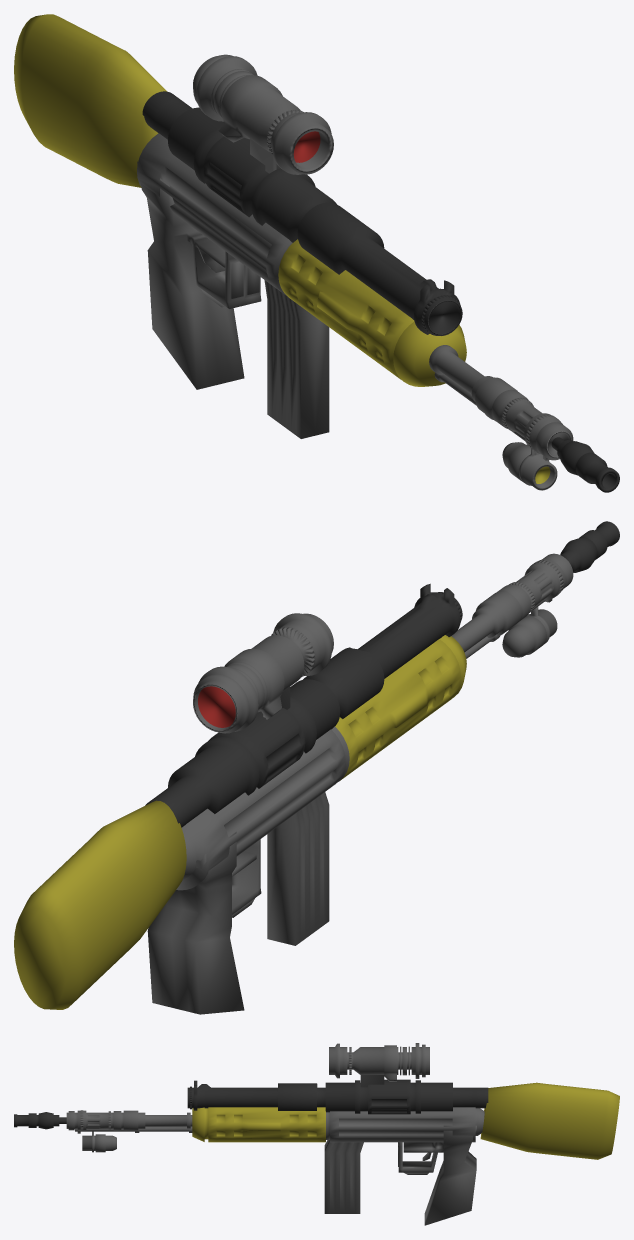
The model's file is HKG3_Aksesoris_Lengkap.fbx.
3 renders of one model, top to bottom at view 1: azimuth 30°, elevation 25°; view 2: azimuth 150°, elevation 25°; view 3: azimuth 270°, elevation 25°, orthographic. The views are drawn at different scales.
Visible parts, largest first — view 1: Objek HKG 4, Objek HKG 2, Objek HKG 6, Objek HKG 7, Objek HKG 10, Objek HKG 5, Objek HKG 1, Objek HKG 8, Objek HKG 9; view 2: Objek HKG 6, Objek HKG 4, Objek HKG 2, Objek HKG 7, Objek HKG 10, Objek HKG 5, Objek HKG 1, Objek HKG 9, Objek HKG 8; view 3: Objek HKG 2, Objek HKG 6, Objek HKG 4, Objek HKG 7, Objek HKG 10, Objek HKG 5, Objek HKG 1, Objek HKG 8, Objek HKG 9, Objek HKG 3.
Boxes of the visible parts, x1,y1,x2,y2 form: Objek HKG 4: [142, 91, 462, 335]; Objek HKG 2: [137, 133, 466, 386]; Objek HKG 6: [14, 14, 166, 187]; Objek HKG 7: [137, 161, 261, 389]; Objek HKG 10: [193, 54, 333, 174]; Objek HKG 5: [264, 280, 329, 438]; Objek HKG 1: [429, 345, 573, 460]; Objek HKG 8: [551, 437, 619, 492]; Objek HKG 9: [502, 442, 557, 490]; Objek HKG 6: [14, 800, 186, 1009]; Objek HKG 4: [145, 583, 462, 827]; Objek HKG 2: [176, 635, 466, 890]; Objek HKG 7: [147, 831, 261, 1014]; Objek HKG 10: [193, 613, 333, 733]; Objek HKG 5: [267, 792, 329, 945]; Objek HKG 1: [451, 553, 573, 652]; Objek HKG 9: [502, 606, 557, 657]; Objek HKG 8: [560, 521, 619, 572]; Objek HKG 2: [192, 1107, 484, 1142]; Objek HKG 6: [480, 1082, 619, 1159]; Objek HKG 4: [187, 1079, 488, 1114]; Objek HKG 7: [398, 1125, 476, 1225]; Objek HKG 10: [329, 1043, 429, 1087]; Objek HKG 5: [324, 1140, 363, 1213]; Objek HKG 1: [66, 1110, 192, 1133]; Objek HKG 8: [14, 1112, 66, 1129]; Objek HKG 9: [82, 1131, 116, 1152]; Objek HKG 3: [75, 1126, 192, 1132].
Bounding box in the file's own units: 55.47 × 220 × 692.
